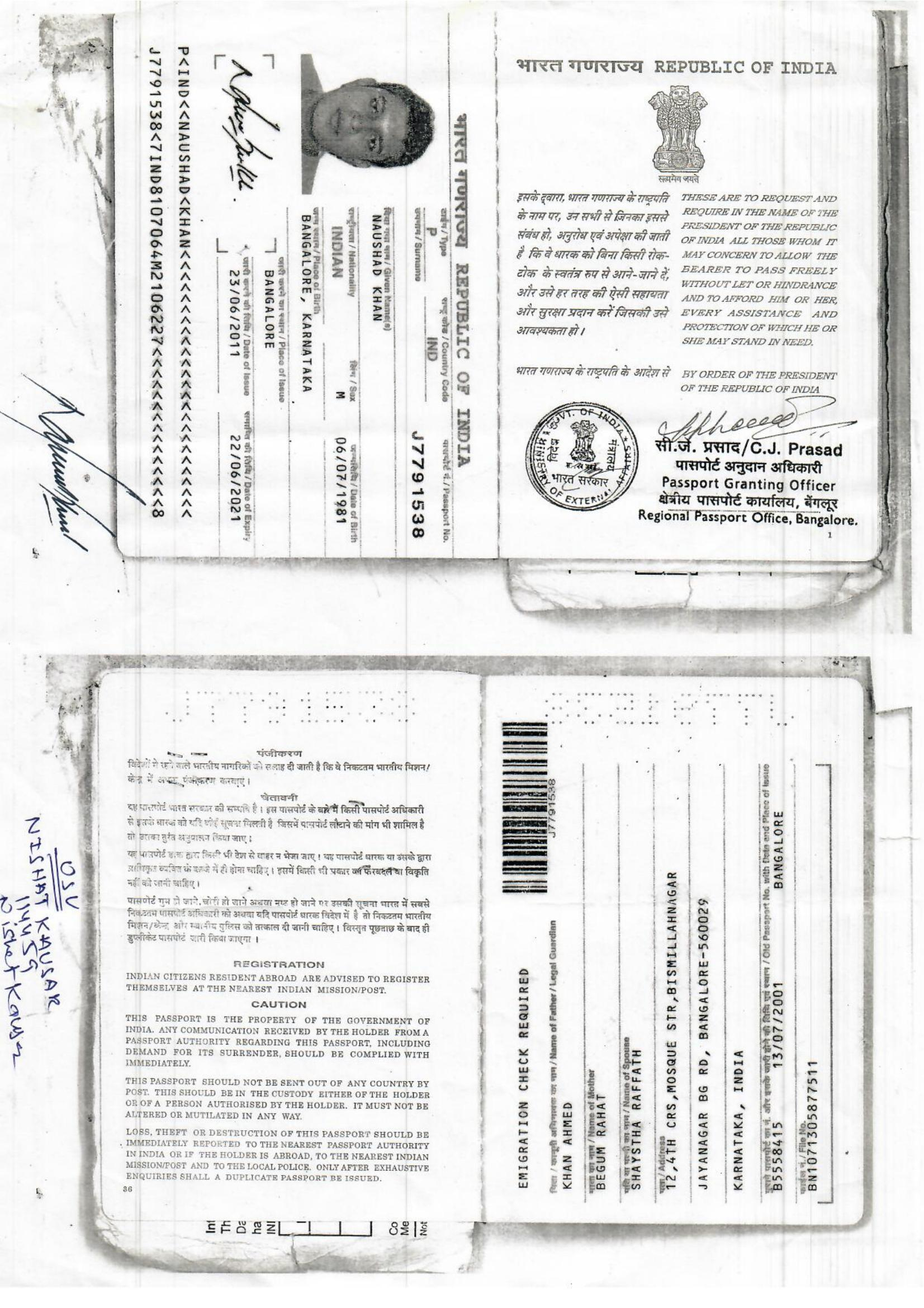DOB: (330, 432, 354, 550)
File_no: (803, 1056, 829, 1196)
address: (664, 851, 749, 1206)
country_code: (422, 318, 442, 366)
date_of_expiry: (227, 425, 258, 539)
date_of_issue: (226, 267, 243, 361)
details: (149, 48, 199, 524)
father_name: (561, 1086, 582, 1193)
mother_name: (593, 1089, 613, 1192)
name: (361, 206, 395, 322)
nationality: (328, 213, 348, 298)
old_passport_details: (768, 800, 795, 1193)
passport_no: (404, 427, 435, 542), (547, 774, 563, 844)
photo: (304, 50, 436, 184)
place_of_birth: (295, 212, 316, 393)
place_of_issue: (256, 258, 277, 349)
sex: (329, 354, 359, 412)
sign: (212, 62, 279, 205)
spouse_name: (628, 1041, 647, 1193)
type: (424, 212, 440, 240)
